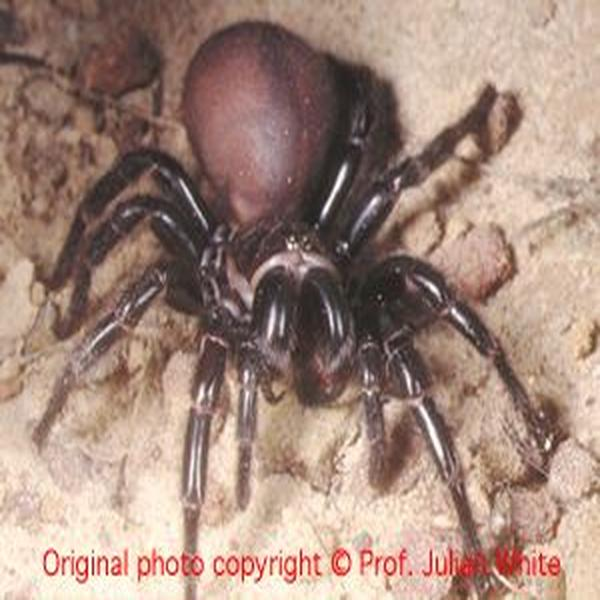Funnel Web Spider: (41, 25, 543, 584)
